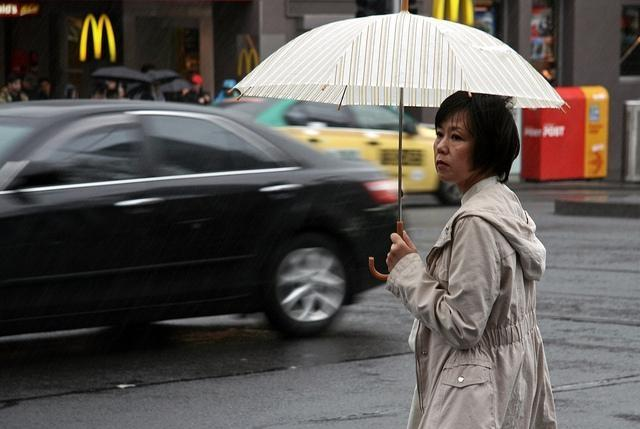car: (0, 95, 400, 338), (252, 96, 462, 206)
